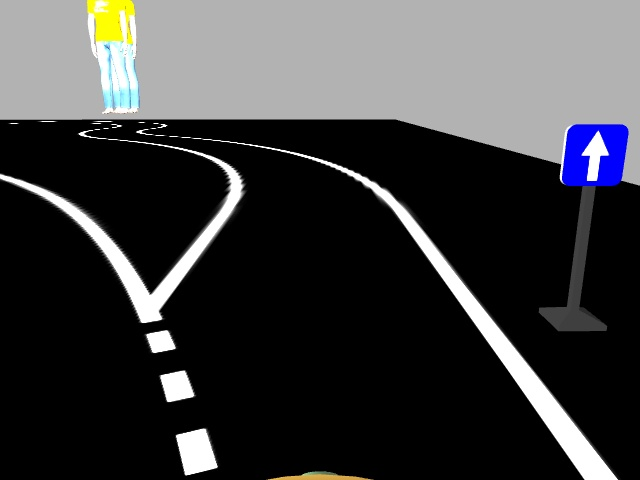OneWay: (563, 122, 625, 186)
